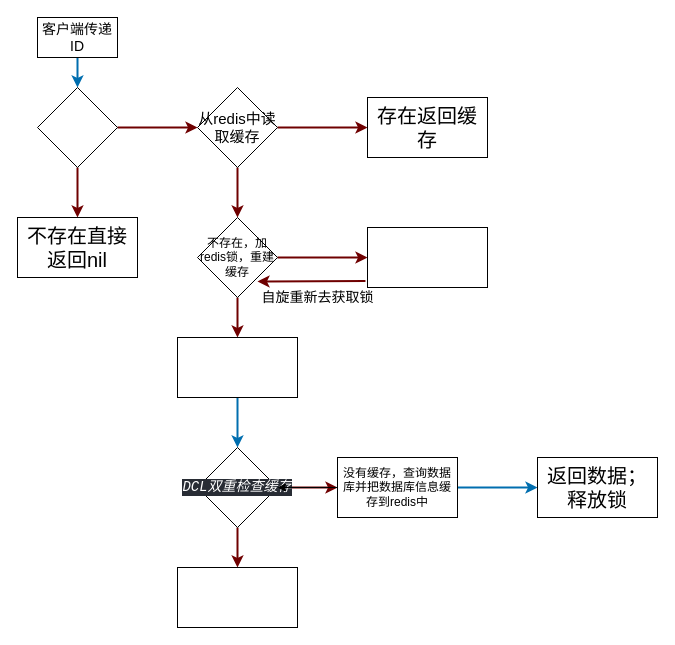
This 675x645 diagram has some shape labels left out. The shapes that lost their labels are listed below. From the top down, each one's centre as x and y in pixels, then its label:
At (77,127): "布隆过滤器".
At (427,257): "没有拿到锁".
At (237,367): "拿到锁".
At (237,597): "有缓存， 返回缓存值， 释放锁".
